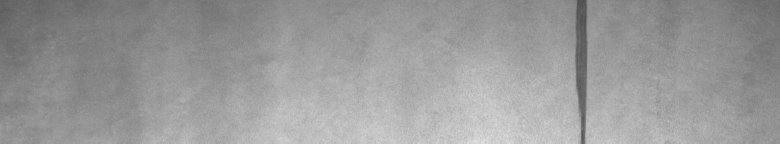hd: (569, 4, 596, 136)
